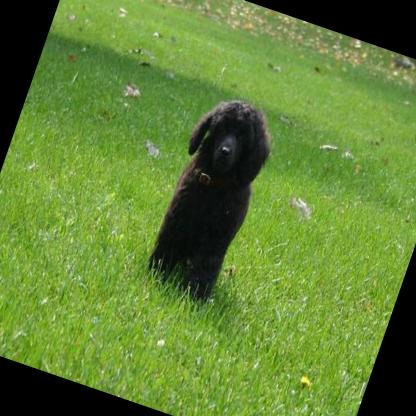miniature_poodle: (138, 86, 284, 310)
